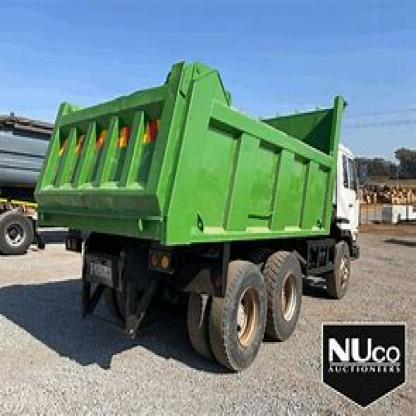dump_truck: (32, 41, 378, 375)
